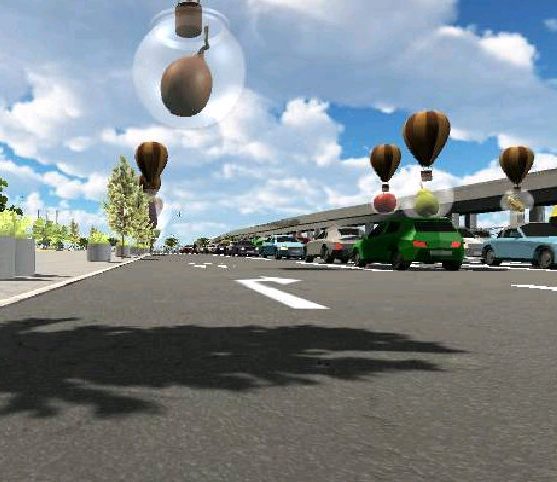ground_right: (230, 274, 305, 285)
